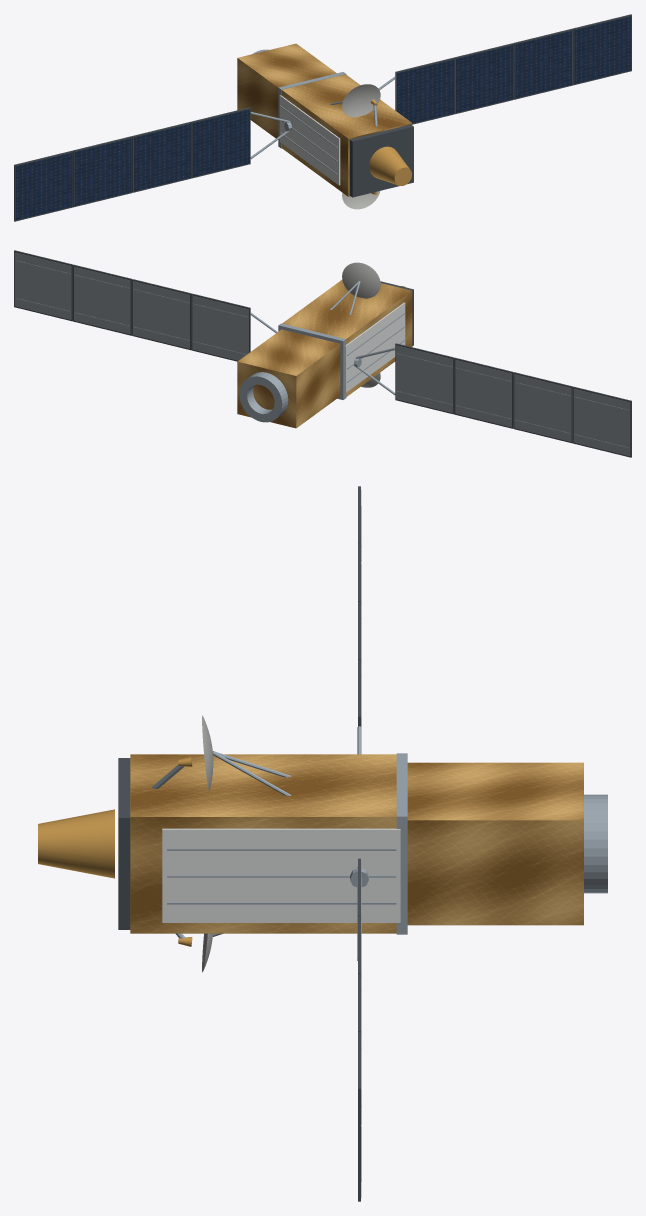
File: ref-spacebus-300-18570.glb
The picture shows the model from 3 angles, top to bottom: view 1: azimuth 30°, elevation 25°; view 2: azimuth 150°, elevation 25°; view 3: azimuth 270°, elevation 25°; orthographic projection. The views are drawn at different scales.
Parts seen in each view (by area): view 1: Solar cell panel (×8), Payload module, Service module, Solar panel frame (×8), Radiator face, Earth-facing deck, Communications reflector (×2), Axial antenna horn, Module interface; view 2: Rear array substrate (×8), Service module, Payload module, Solar panel frame (×8), Radiator face, Launch adapter ring, Communications reflector, Module interface; view 3: Service module, Payload module, Radiator face, Axial antenna horn, Launch adapter ring, Earth-facing deck, Module interface.
Part boxes in pixels (x1,y1,x2,y2): Solar cell panel (×8): [15, 16, 631, 220]; Payload module: [281, 74, 412, 196]; Service module: [237, 43, 336, 138]; Solar panel frame (×8): [14, 14, 631, 221]; Radiator face: [279, 95, 340, 185]; Earth-facing deck: [349, 124, 413, 197]; Communications reflector (×2): [342, 84, 380, 209]; Axial antenna horn: [369, 146, 411, 185]; Module interface: [278, 72, 346, 148]; Rear array substrate (×8): [14, 252, 630, 456]; Service module: [237, 329, 340, 428]; Payload module: [282, 280, 412, 396]; Solar panel frame (×8): [14, 250, 631, 457]; Radiator face: [345, 302, 405, 392]; Launch adapter ring: [239, 372, 288, 422]; Communications reflector: [342, 262, 380, 298]; Module interface: [278, 323, 346, 399]; Service module: [407, 762, 583, 925]; Payload module: [130, 754, 396, 933]; Radiator face: [162, 828, 400, 922]; Axial antenna horn: [38, 809, 114, 878]; Launch adapter ring: [584, 794, 607, 893]; Earth-facing deck: [118, 758, 130, 929]; Module interface: [396, 753, 407, 934].
Bounding box in the file's own units: 19.28 × 3.7 × 7.71.
Materials: 8 (2 with a texture image).
